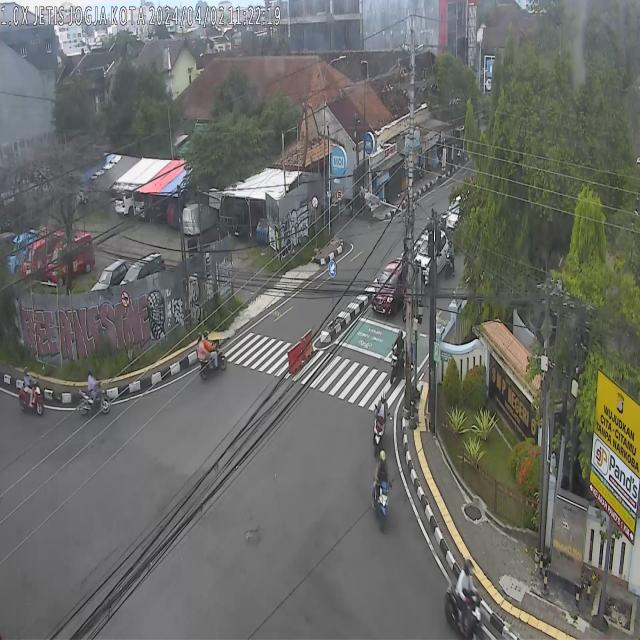car: (371, 258, 407, 315), (414, 228, 450, 282)
motorcycle: (443, 554, 482, 640), (76, 366, 112, 418), (371, 448, 390, 534), (197, 330, 227, 380), (18, 367, 46, 416), (372, 390, 390, 454), (389, 329, 405, 381), (444, 240, 455, 280)
